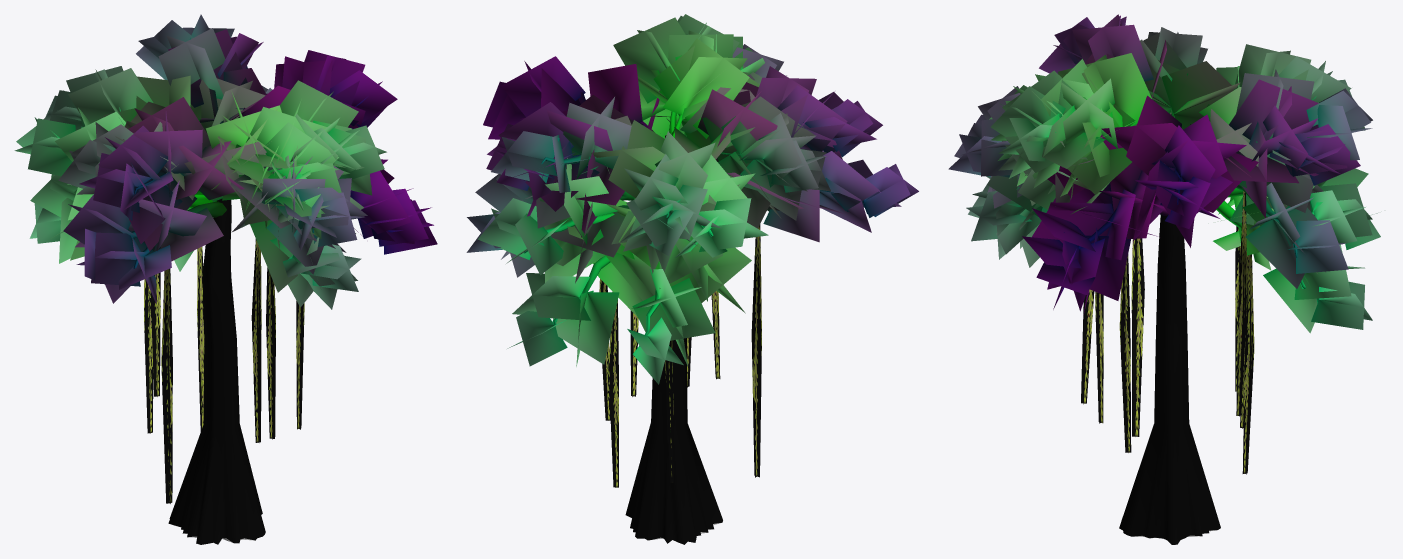
The model's file is Kapok.fbx.
3 renders of one model, left to right at view 1: azimuth 30°, elevation 25°; view 2: azimuth 150°, elevation 25°; view 3: azimuth 270°, elevation 25°, orthographic. The views are drawn at different scales.
Parts seen in each view (by area): view 1: Tree_3, Tree_0, Tree_2; view 2: Tree_3, Tree_0, Tree_2; view 3: Tree_3, Tree_0, Tree_2.
Part boxes in pixels (bbox=[...]): Tree_3: bbox=[14, 14, 437, 309]; Tree_0: bbox=[131, 120, 314, 544]; Tree_2: bbox=[144, 239, 304, 503]; Tree_3: bbox=[466, 14, 918, 384]; Tree_0: bbox=[524, 111, 867, 544]; Tree_2: bbox=[599, 224, 761, 487]; Tree_3: bbox=[948, 14, 1380, 333]; Tree_0: bbox=[1078, 110, 1318, 544]; Tree_2: bbox=[1081, 191, 1254, 474].
Size of the model in its own units: 908 by 1074 by 888.
